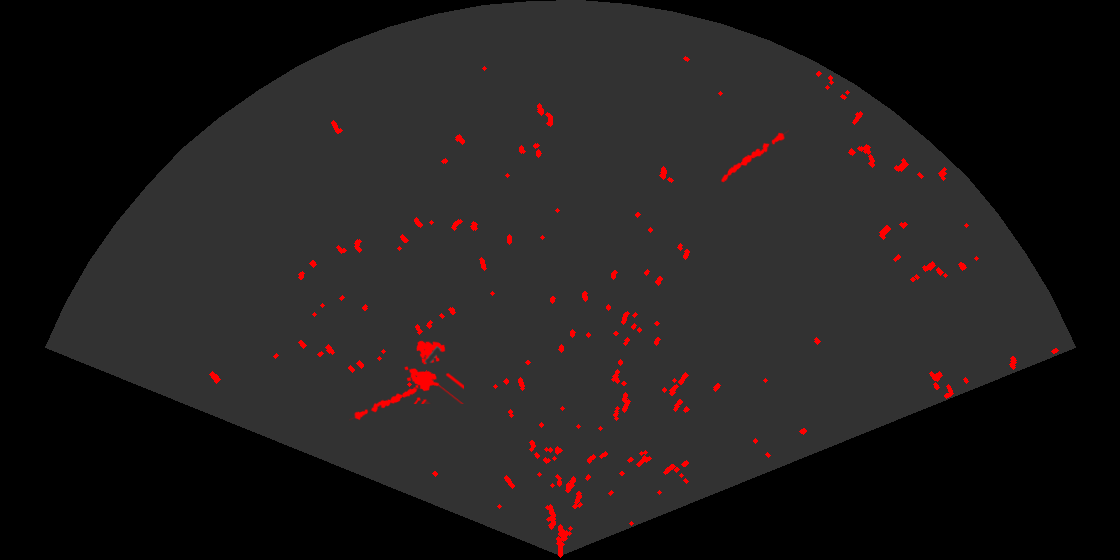cage: (403, 339, 464, 404)
chain: (719, 128, 789, 184), (349, 380, 427, 422)
